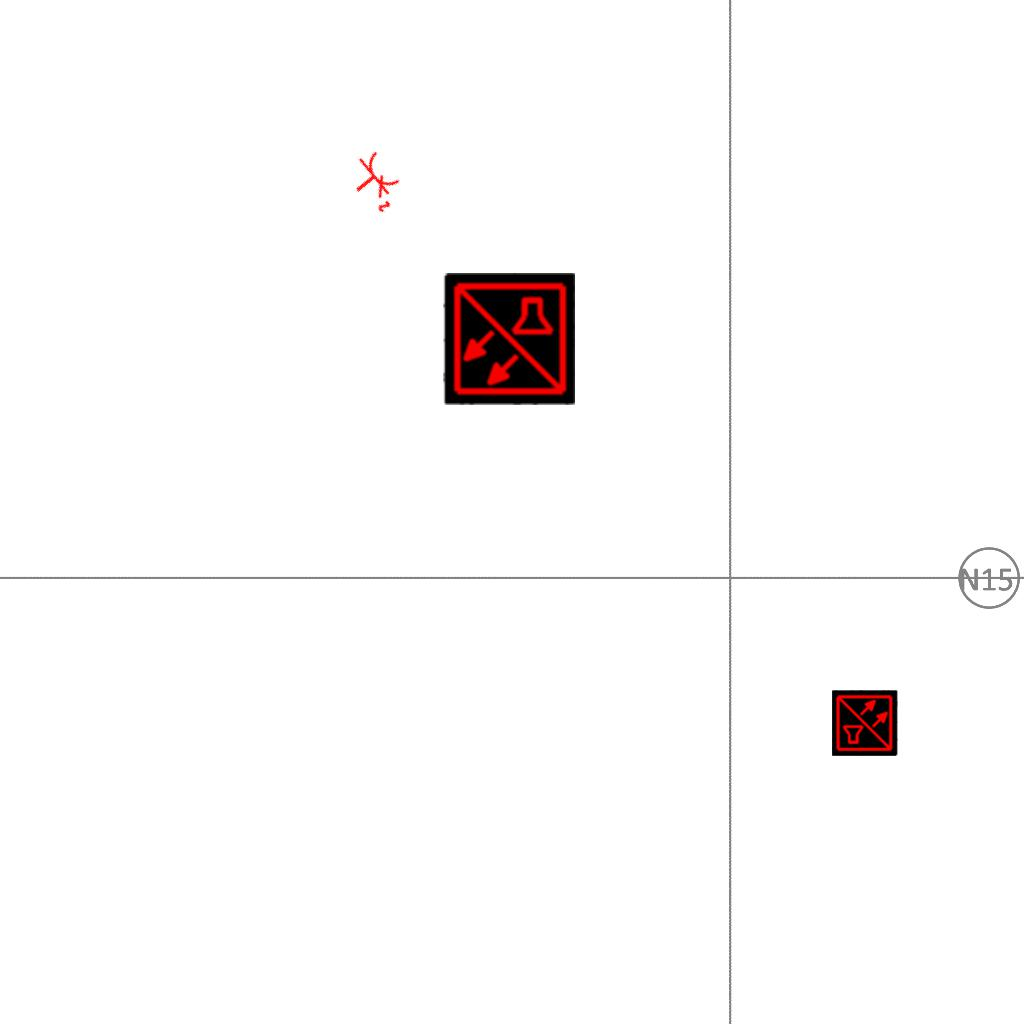OKW_Multisensormelder_(Kombination_optischer_Rauch-Kahlenmonoxid_Waerme-Melder): (443, 273, 575, 405), (832, 690, 898, 756)
Schukosteckdose_mehrfach: (339, 144, 411, 220)
